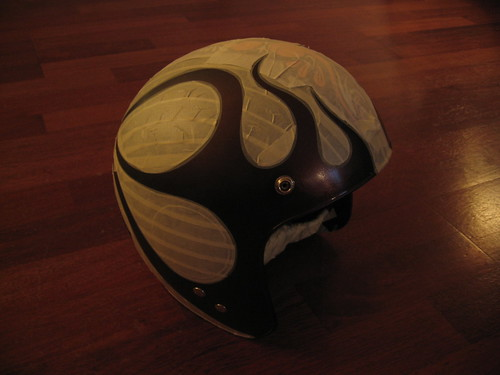helmet: (106, 47, 394, 339)
